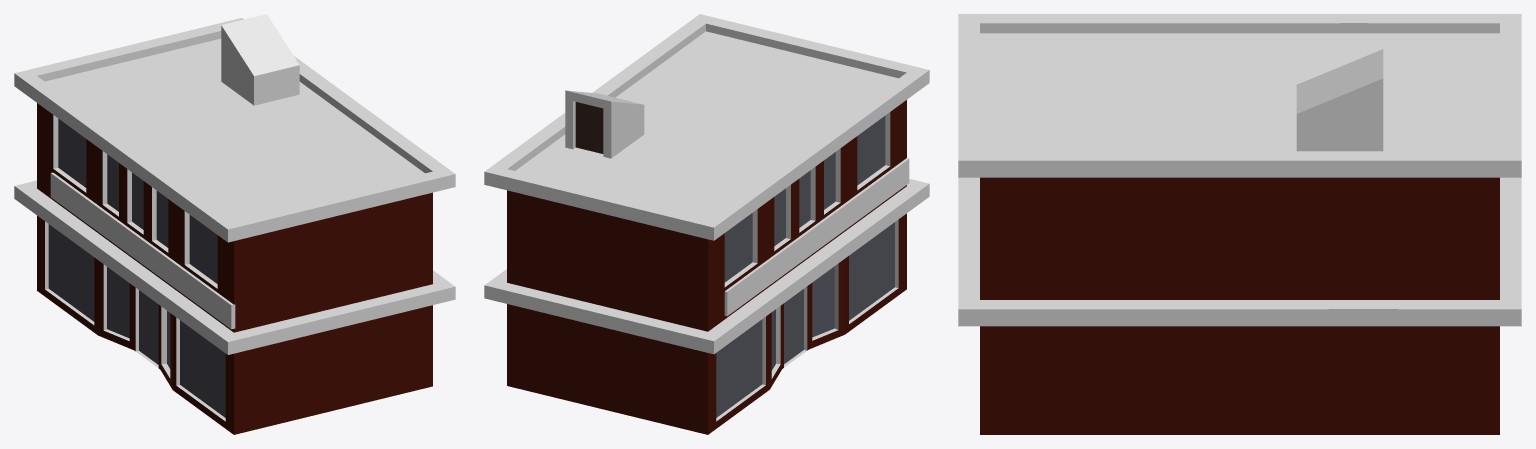
File: Mall_1.fbx
3 views of the same model, side by side, from view 1: azimuth 30°, elevation 25°; view 2: azimuth 150°, elevation 25°; view 3: azimuth 270°, elevation 25° (orthographic). The views are drawn at different scales.
Parts seen in each view (by area): view 1: Mall; view 2: Mall; view 3: Mall.
Part boxes in pixels (x1,y1,x2,y2): Mall: (14,14,455,434); Mall: (484,14,929,434); Mall: (958,14,1521,434).
Bounding box in the file's own units: 0.4064 × 0.4502 × 0.6604.
